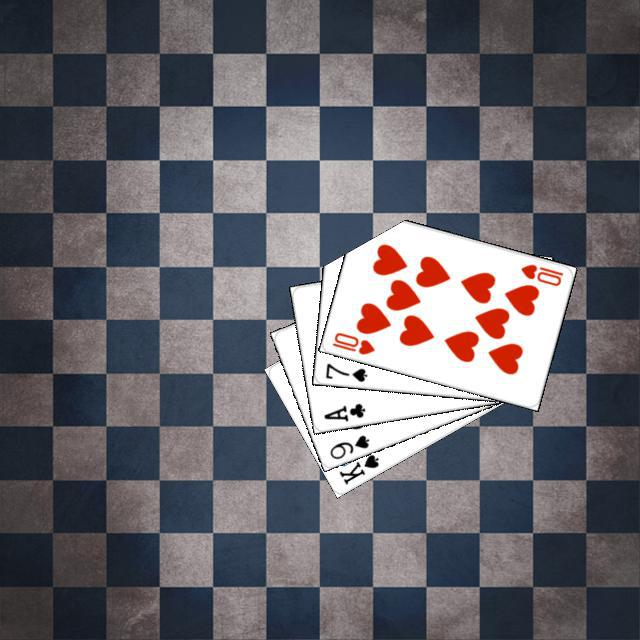10h: (327, 327, 376, 356), (516, 259, 565, 288)
7s: (321, 358, 369, 383)
9s: (325, 430, 371, 461)
Ac: (319, 398, 367, 423)
Ks: (334, 449, 381, 486)
